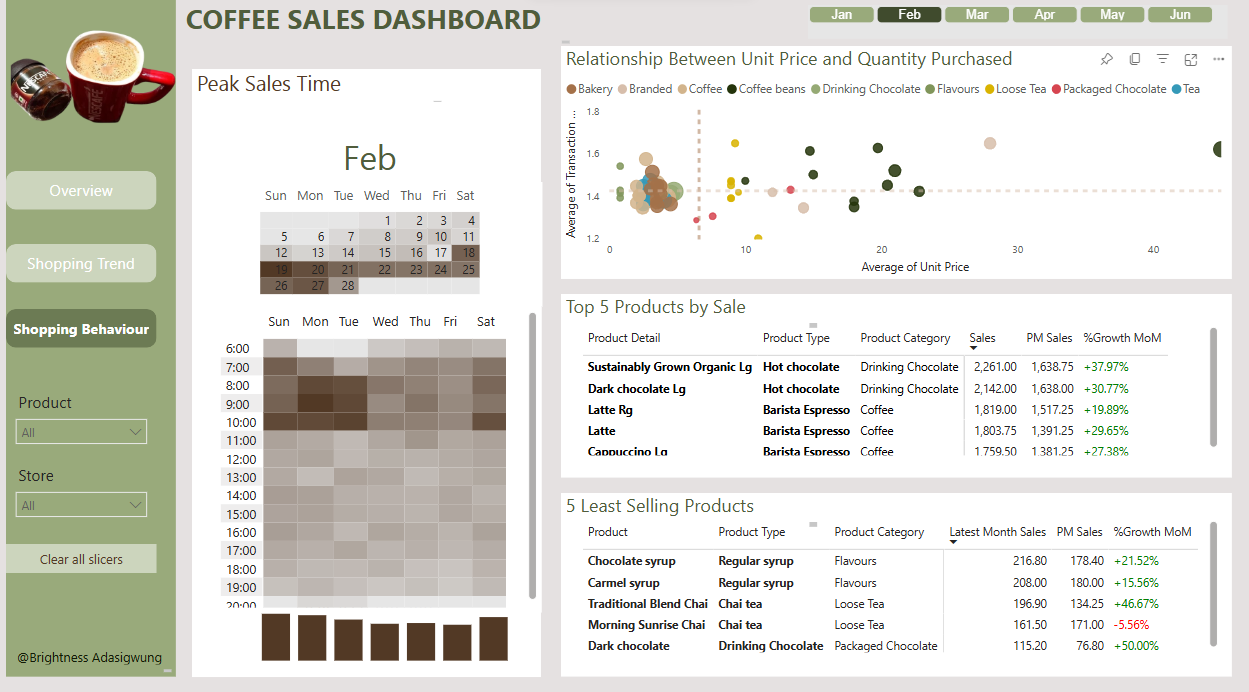

Layout of this report page (visuals, bound fields, positions):
{"tool":"powerbi","page":{"name":"Shopping Behaviour ","canvas":[1280,720],"ordinal":2},"visuals":[{"type":"shape","box":[574.3,510,694.3,190],"z":0},{"type":"shape","box":[574.3,304.3,694.3,190],"z":1000},{"type":"shape","box":[192.9,71.4,361.4,628.6],"z":2000},{"type":"pivotTable","fields":{"Columns":["DIM_Date.Week Day"],"Values":["DIM_Date.Day"],"Rows":["DIM_Date.Week of Month"]},"box":[238.6,188.6,315.7,128.6],"z":3000},{"type":"ChicletSlicer1448559807354","fields":{"Category":["DIM_Date.Month Name"]},"box":[824.3,0,444.3,47.1],"z":4000},{"type":"pivotTable","fields":{"Rows":["FACT_Transaction.Time"],"Columns":["DIM_Date.Week Day"],"Values":["Measure.Sales in K"]},"box":[217.1,317.1,337.1,315.7],"z":5000},{"type":"clusteredColumnChart","fields":{"Category":["DIM_Date.Week Day"],"Y":["Measure.Total Sales"]},"box":[260,612.9,265.7,77.1],"z":6000},{"type":"card","fields":{"Values":["DIM_Date.Month Name"]},"box":[278.6,128.6,195.7,68.6],"z":7000},{"type":"textbox","title":"Peak Sales Time","box":[192.9,71.4,262.9,38.6],"z":8000},{"type":"scatterChart","title":"Relationship Between Unit Price and  Quantity Purchased","fields":{"X":["FACT_Transaction.Unit Price"],"Category":["DIM_Product.Product Detail"],"Size":["Measure.Total Sales"],"Series":["DIM_Product.Product Category"],"Y":["FACT_Transaction.Transaction Qty"]},"box":[574.3,47.1,694.3,241.4],"z":9000},{"type":"pivotTable","fields":{"Rows":["DIM_Product.Product Detail","DIM_Product.Product Type","DIM_Product.Product Category"],"Values":["Measure.Latest Month Sales","Measure.Previous Month Sales","Measure.%Growth MoM formatted"]},"box":[591.4,332.9,667.1,142.9],"z":10000},{"type":"pivotTable","fields":{"Rows":["DIM_Product.Product Detail","DIM_Product.Product Type","DIM_Product.Product Category"],"Values":["Measure.Latest Month Sales","Measure.Previous Month Sales","Measure.%Growth MoM formatted"]},"box":[591.4,534.3,667.1,145.7],"z":11000},{"type":"textbox","title":"Top 5 Products by Sale","box":[574.3,304.3,270,40],"z":12000},{"type":"textbox","title":" 5 Least Selling Products","box":[574.3,510,270,40],"z":13000},{"type":"shape","box":[0,0,175.7,700],"z":14000},{"type":"actionButton","box":[0,177.1,155.7,40],"z":15000},{"type":"actionButton","box":[0,252.9,155.7,40],"z":16000},{"type":"actionButton","box":[0,320,155.7,40],"z":17000},{"type":"slicer","fields":{"Values":["DIM_Product.Product Category","DIM_Product.Product Type","DIM_Product.Product Detail"]},"box":[0,400,155.7,68.6],"z":18000},{"type":"slicer","fields":{"Values":["DIM_Store.Store"]},"box":[0,475.7,155.7,68.6],"z":19000},{"type":"actionButton","box":[0,562.9,155.7,30],"z":20000},{"type":"textbox","title":"COFFEE SALES DASHBOARD","box":[181.4,0,407.1,50],"z":21000},{"type":"textbox","title":"@Brightness Adasigwung","box":[5.7,670,170,30],"z":22000},{"type":"image","box":[0,0,181.4,158.6],"z":23000}]}

Visuals, with their boxes on the page's 1280x720 design canvas (x1, y1, x2, y2). These are canvas units, not pixel positions in the 1249x692 screenshot, which may show the page scaled, cropped or inside an application window:
shape: 574/510/1269/700
shape: 574/304/1269/494
shape: 193/71/554/700
pivotTable - DIM_Date.Week Day x DIM_Date.Day: 239/189/554/317
ChicletSlicer1448559807354 - DIM_Date.Month Name: 824/0/1269/47
pivotTable - FACT_Transaction.Time x DIM_Date.Week Day: 217/317/554/633
clusteredColumnChart - DIM_Date.Week Day x Measure.Total Sales: 260/613/526/690
card - DIM_Date.Month Name: 279/129/474/197
"Peak Sales Time" textbox: 193/71/456/110
"Relationship Between Unit Price and  Quantity Purchased" scatterChart: 574/47/1269/288
pivotTable - DIM_Product.Product Detail x DIM_Product.Product Type: 591/333/1258/476
pivotTable - DIM_Product.Product Detail x DIM_Product.Product Type: 591/534/1258/680
"Top 5 Products by Sale" textbox: 574/304/844/344
" 5 Least Selling Products" textbox: 574/510/844/550
shape: 0/0/176/700
actionButton: 0/177/156/217
actionButton: 0/253/156/293
actionButton: 0/320/156/360
slicer - DIM_Product.Product Category x DIM_Product.Product Type: 0/400/156/469
slicer - DIM_Store.Store: 0/476/156/544
actionButton: 0/563/156/593
"COFFEE SALES DASHBOARD" textbox: 181/0/588/50
"@Brightness Adasigwung" textbox: 6/670/176/700
image: 0/0/181/159
